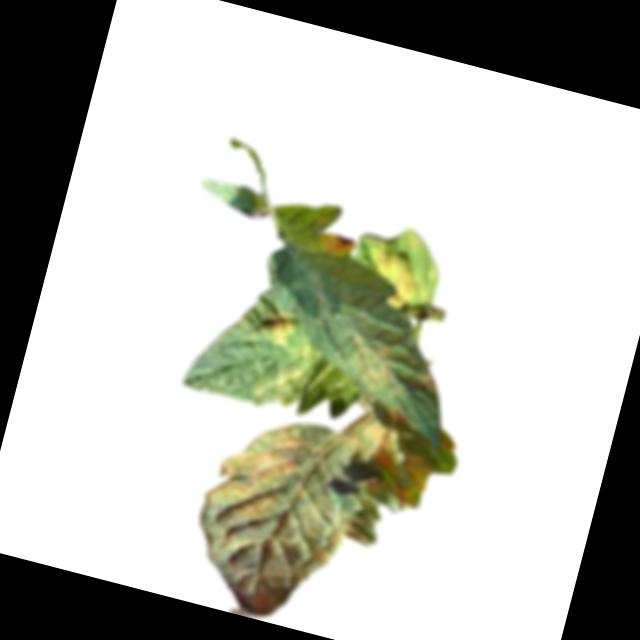Leaf_Mold: (177, 397, 440, 640), (343, 332, 407, 396), (364, 248, 426, 313), (265, 358, 310, 409), (260, 308, 299, 351), (317, 229, 357, 262), (412, 365, 444, 399)
